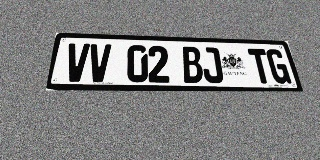0: (127, 45, 148, 82)
2: (148, 45, 169, 83)
B: (181, 46, 204, 83)
G: (265, 49, 292, 84)
J: (200, 47, 224, 83)
T: (247, 48, 273, 84)
V: (63, 43, 90, 82), (87, 44, 111, 82)
